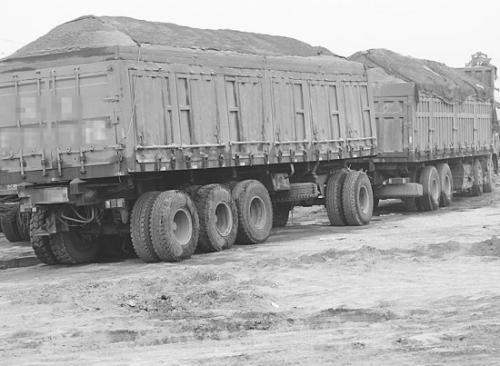chaozhai: (7, 16, 375, 240), (371, 40, 500, 206)
